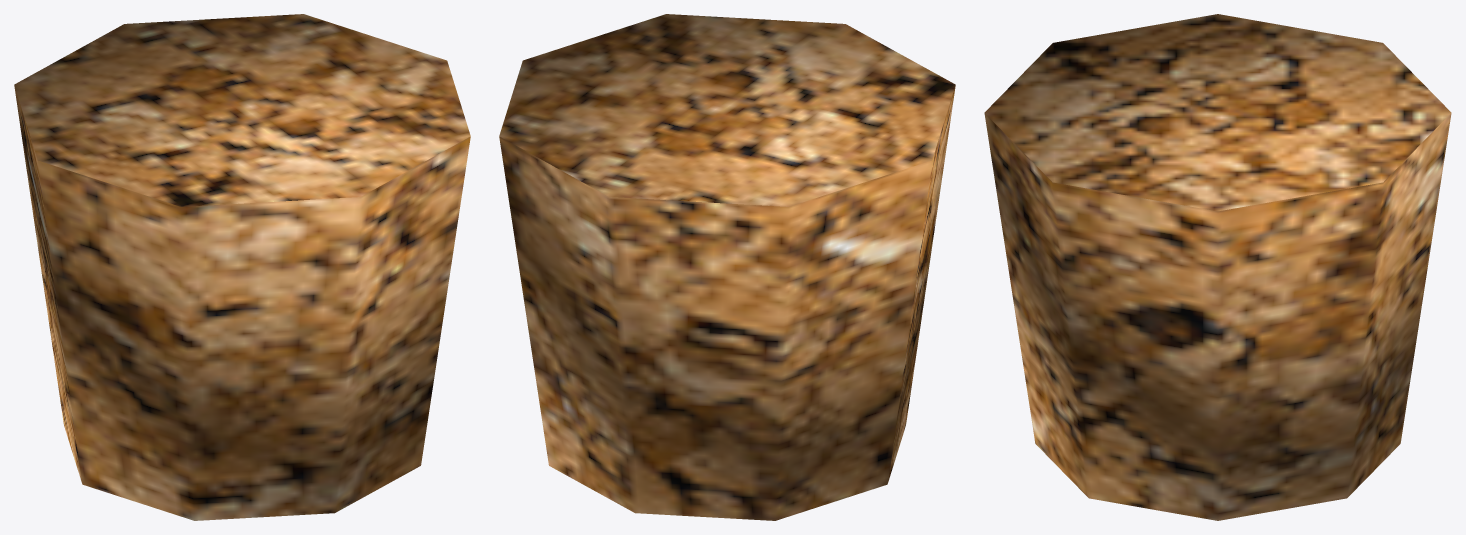
The model's file is WorldItem_Cork.fbx.
3 renders of one model, left to right at view 1: azimuth 30°, elevation 25°; view 2: azimuth 150°, elevation 25°; view 3: azimuth 270°, elevation 25°, orthographic.
Visible parts, largest first — view 1: Cylinder; view 2: Cylinder; view 3: Cylinder.
Boxes of the visible parts, x1,y1,x2,y2 form: Cylinder: (14, 14, 470, 520); Cylinder: (499, 14, 955, 520); Cylinder: (984, 14, 1451, 520).
Bounding box in the file's own units: 0.0228 × 0.0178 × 0.0228.
